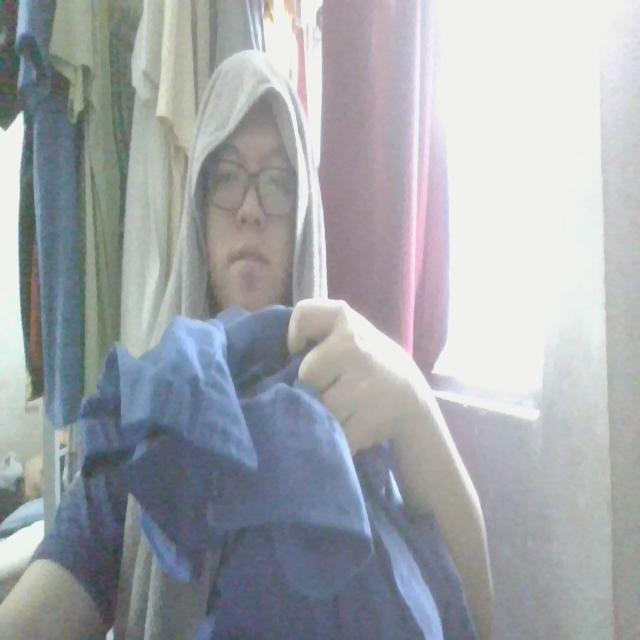person_without_labcoat: (0, 50, 489, 639)
